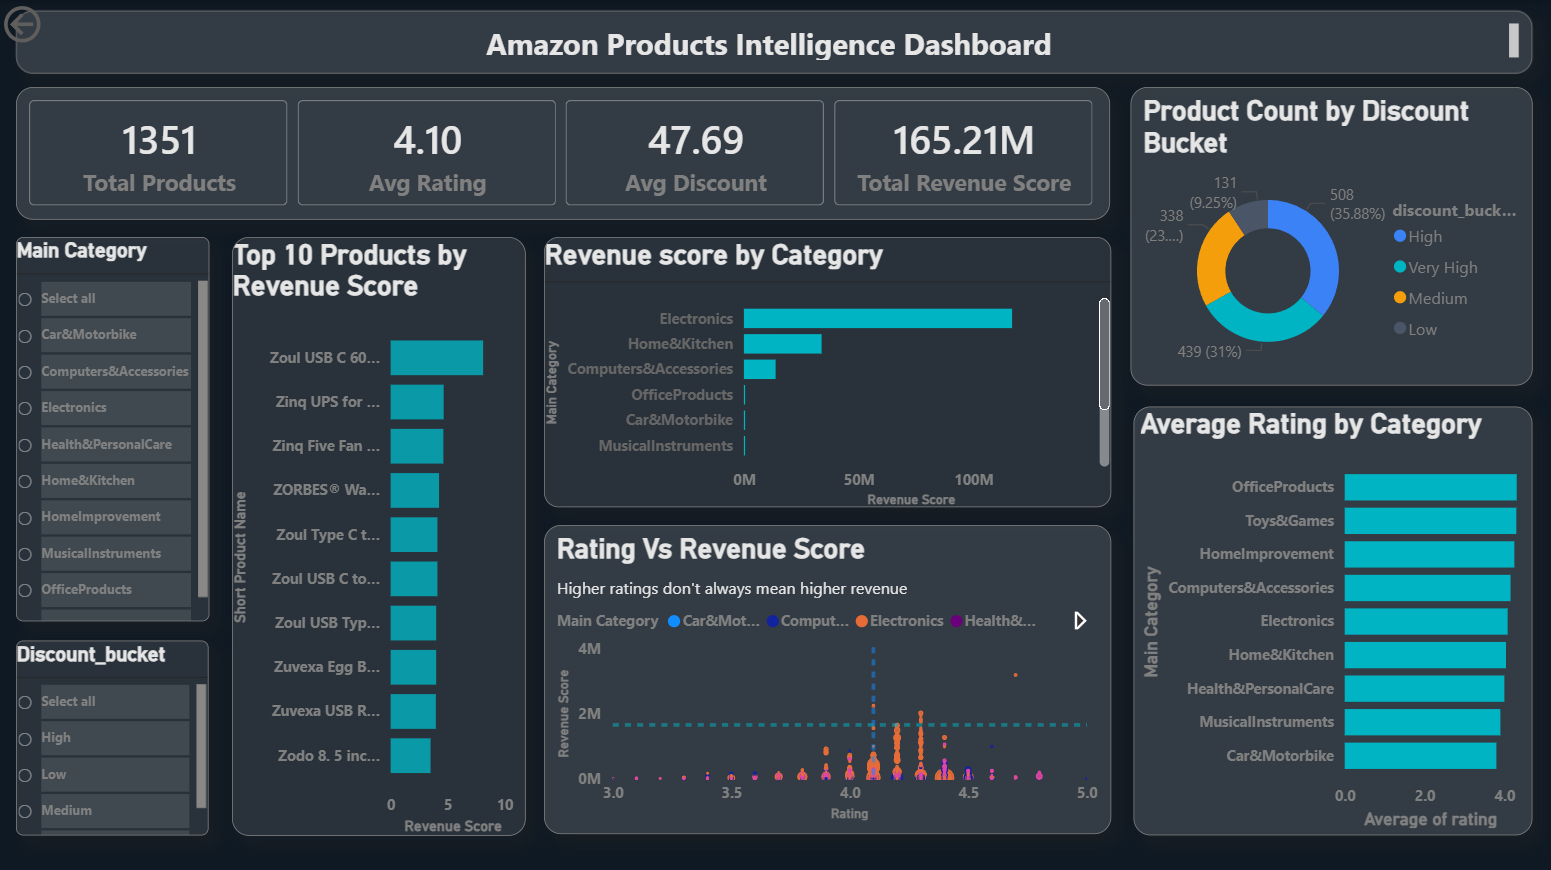

The dashboard page shown, as its layout file describes it:
{"tool":"powerbi","page":{"name":"Page 1","canvas":[1280,720],"ordinal":0},"visuals":[{"type":"textbox","title":"Amazon Product Intelligence Dashboard","box":[14.8,8.7,1249.3,51.9],"z":0},{"type":"clusteredBarChart","title":"Revenue score by Category","fields":{"Category":["amazon_product_intelligence products_dim.Main Category"],"Y":["Sum(amazon_product_intelligence reviews_fact.revenue_score)"]},"box":[449.8,195.2,467.1,222.4],"z":1000},{"type":"barChart","title":"Average Rating by Category","fields":{"Y":["Avg(amazon_product_intelligence reviews_fact.rating)"],"Category":["amazon_product_intelligence products_dim.Main Category"]},"box":[935.4,334.9,328.7,353.4],"z":2000},{"type":"donutChart","title":"Product Count by Discount Bucket","fields":{"Category":["amazon_product_intelligence pricing_fact.discount_bucket"],"Y":["CountNonNull(amazon_product_intelligence pricing_fact.product_id)"]},"box":[933,71.7,331.2,245.9],"z":3000},{"type":"clusteredBarChart","title":"Top 10 Products by Revenue Score","fields":{"Category":["amazon_product_intelligence products_dim.Short Product Name"],"Y":["Sum(amazon_product_intelligence reviews_fact.Log Revenue Score)"]},"box":[192.8,195.2,242.2,493.1],"z":4000},{"type":"cardVisual","fields":{"Data":["amazon_product_intelligence products_dim.Total Products","amazon_product_intelligence reviews_fact.Avg Rating","amazon_product_intelligence pricing_fact.Avg Discount","amazon_product_intelligence reviews_fact.Total Revenue Score"]},"box":[15.1,71.8,901.4,109.6],"z":5000},{"type":"listSlicer","fields":{"Values":["amazon_product_intelligence products_dim.Main Category"]},"box":[14.8,195.2,159.4,316.3],"z":6000},{"type":"listSlicer","title":"  Discount_bucket","fields":{"Values":["amazon_product_intelligence pricing_fact.discount_bucket"]},"box":[15.1,527.2,158.7,160.6],"z":7000},{"type":"actionButton","box":[0,0,100,40],"z":8000},{"type":"scatterChart","title":"Rating Vs Revenue Score","fields":{"X":["amazon_product_intelligence reviews_fact.Avg Rating"],"Series":["amazon_product_intelligence products_dim.Main Category"],"Y":["Sum(amazon_product_intelligence reviews_fact.revenue_score)"],"Size":["Sum(amazon_product_intelligence reviews_fact.rating_count)"],"Category":["amazon_product_intelligence products_dim.product_id"]},"box":[449.3,432.6,467.4,254.4],"z":9000}]}

Visuals, with their boxes in screenshot pixels (x1, y1, x2, y2), scaled from the page's 1280x720 canvas onto the 1551x870 screenshot:
"Amazon Product Intelligence Dashboard" textbox: 18,11,1532,73
"Revenue score by Category" clusteredBarChart: 545,236,1111,505
"Average Rating by Category" barChart: 1133,405,1532,832
"Product Count by Discount Bucket" donutChart: 1131,87,1532,384
"Top 10 Products by Revenue Score" clusteredBarChart: 234,236,527,832
cardVisual - amazon_product_intelligence products_dim.Total Products x amazon_product_intelligence reviews_fact.Avg Rating: 18,87,1111,219
listSlicer - amazon_product_intelligence products_dim.Main Category: 18,236,211,618
"  Discount_bucket" listSlicer: 18,637,211,831
actionButton: 0,0,121,48
"Rating Vs Revenue Score" scatterChart: 544,523,1111,830
